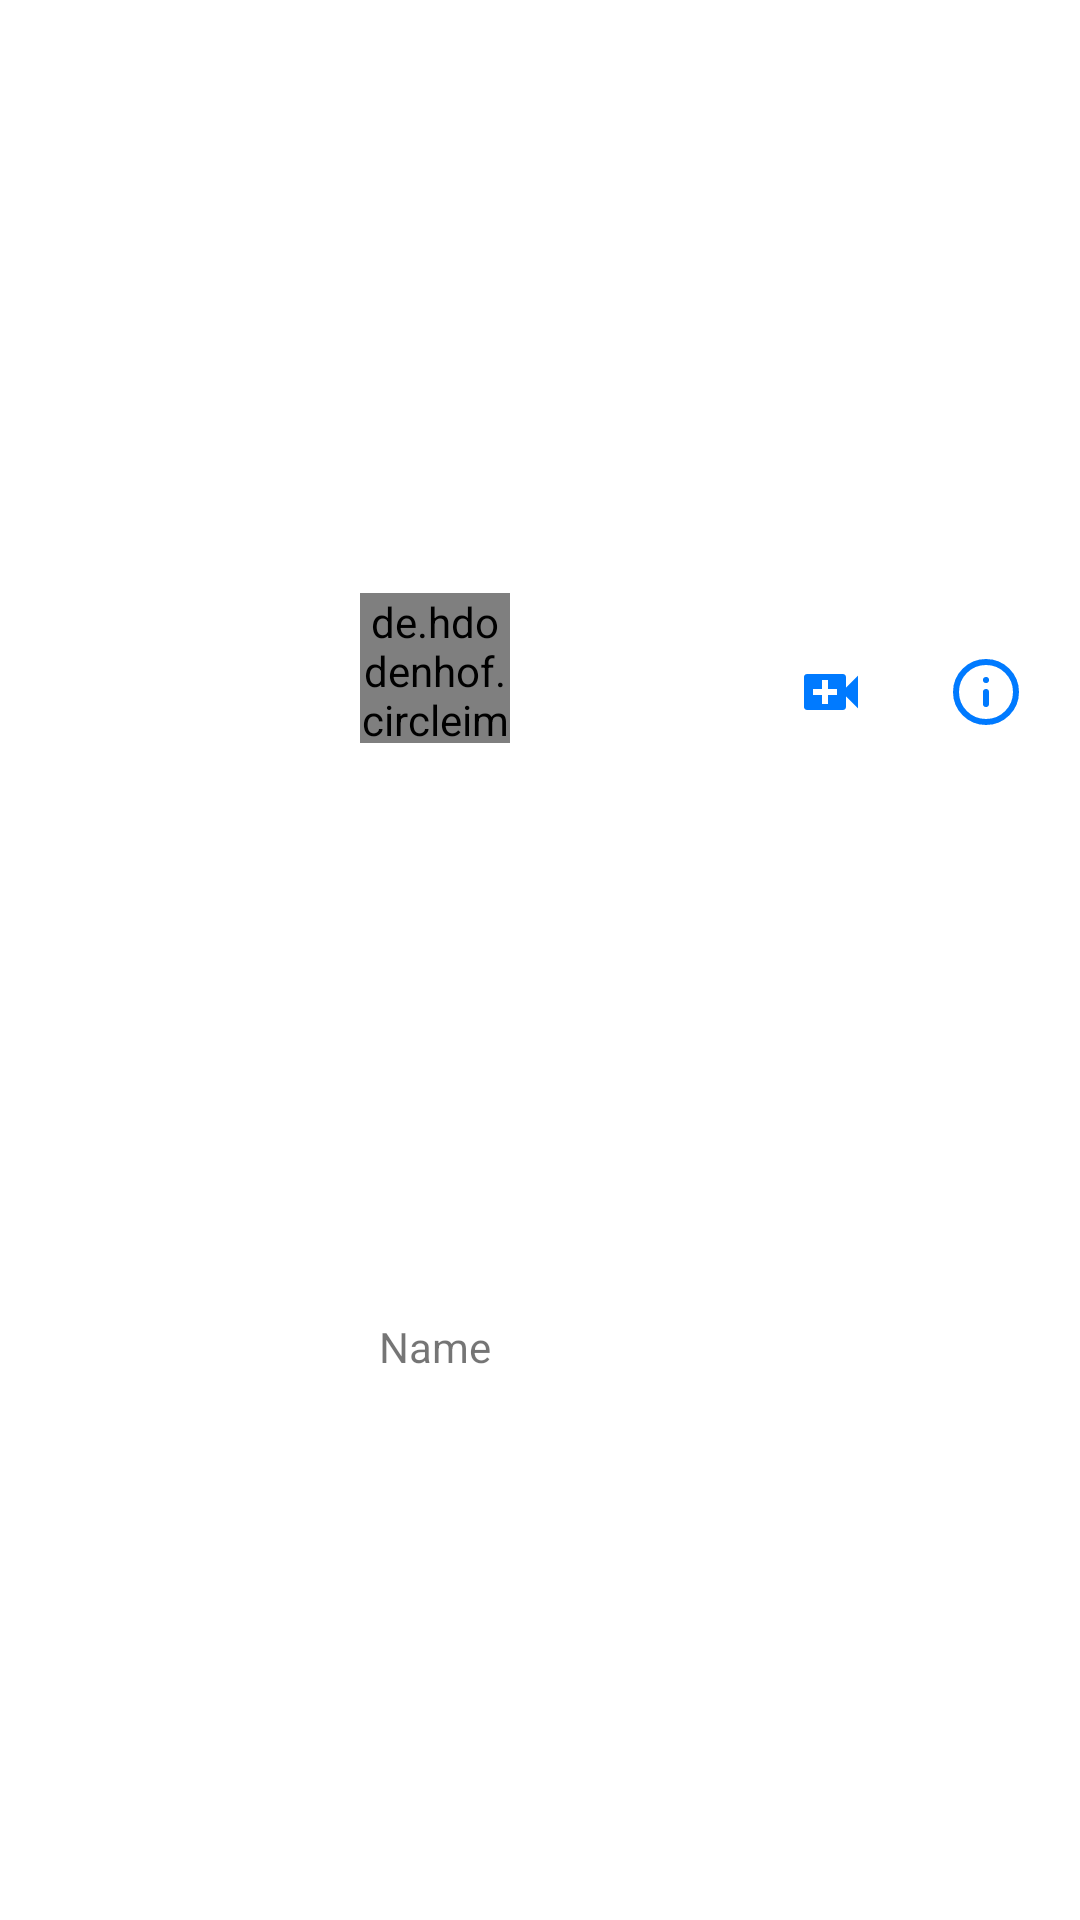

Icon bounding boxes for this 1080×1920 phone screenshot, format bbox=[x1, y1, x2, y2]:
info: bbox=[953, 659, 1019, 725]
videocall: bbox=[804, 674, 858, 710]
